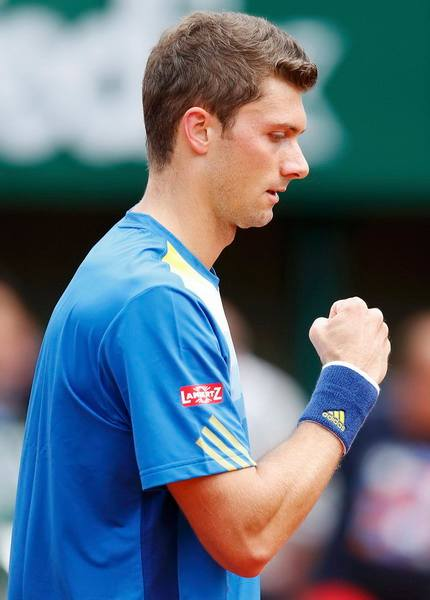no-phone: (308, 290, 395, 380)
